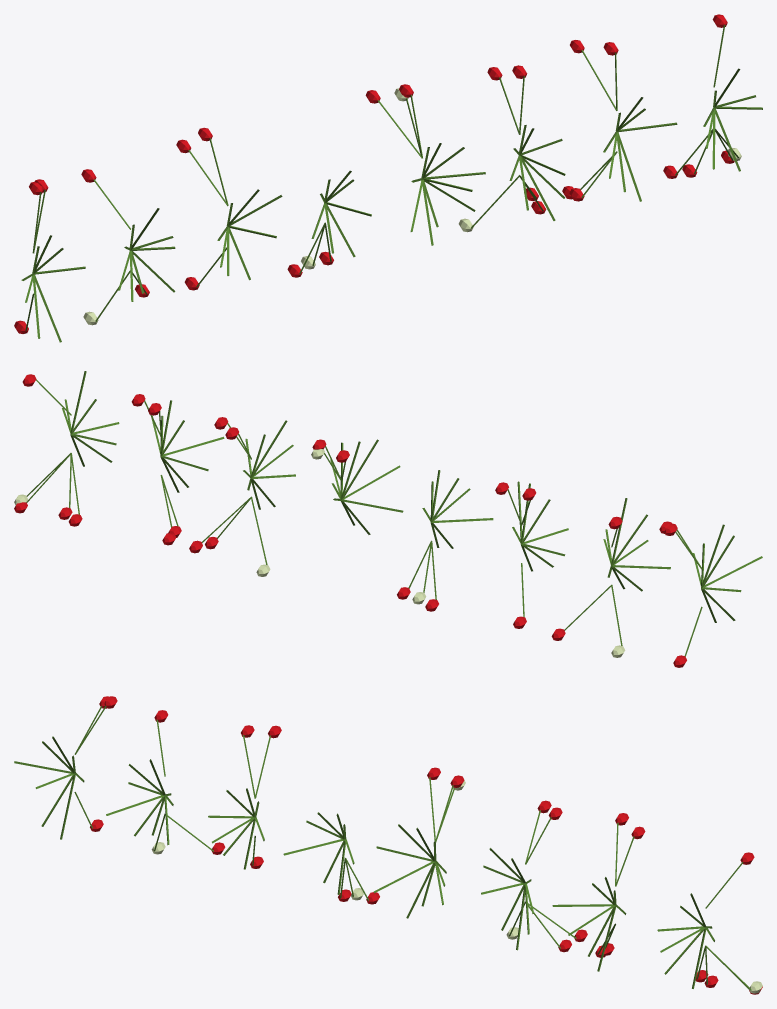
Rendered from r28c0_rest.obj.
The picture shows the model from 3 angles, top to bottom: view 1: azimuth 30°, elevation 25°; view 2: azimuth 150°, elevation 25°; view 3: azimuth 330°, elevation 25°; orthographic projection. The views are drawn at different scales.
Parts seen in each view (by area): view 1: r28c0_rest; view 2: r28c0_rest; view 3: r28c0_rest.
Part boxes in pixels (left/top/right/bottom): r28c0_rest: left=14, top=14, right=762, bottom=342; r28c0_rest: left=14, top=371, right=762, bottom=667; r28c0_rest: left=14, top=696, right=762, bottom=994.
Bounding box in the file's own units: 1.96 × 0.4019 × 0.2532.
